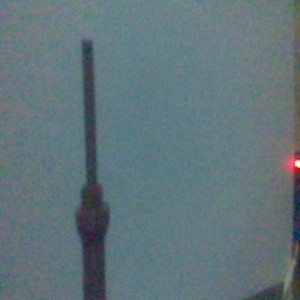obeng: (73, 38, 110, 300)
